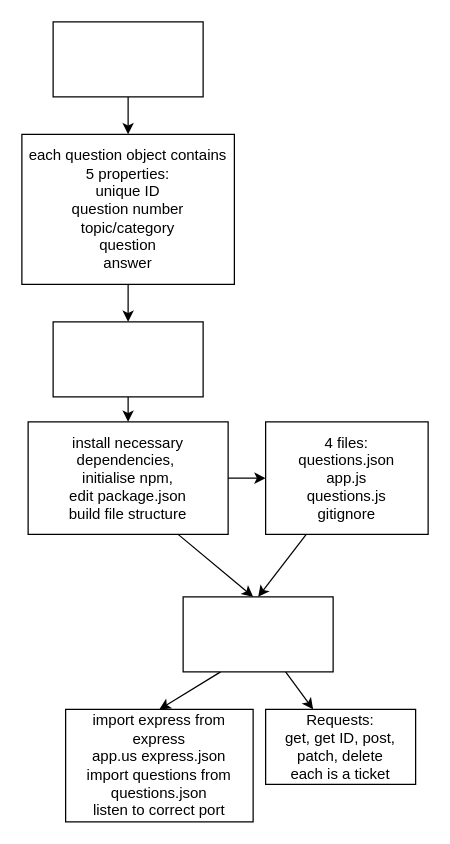
The diagram is 450 pixels wide and 844 high, and some of its shapes have lost their labels. The box of each missing label's shape, as (x1, y1, x2, y2) in pixels:
10 questions from 1 topic to start with: (52, 321, 203, 397)
create data base: (52, 21, 203, 97)
MVP1: do functionality and request in one file: (182, 596, 333, 672)
